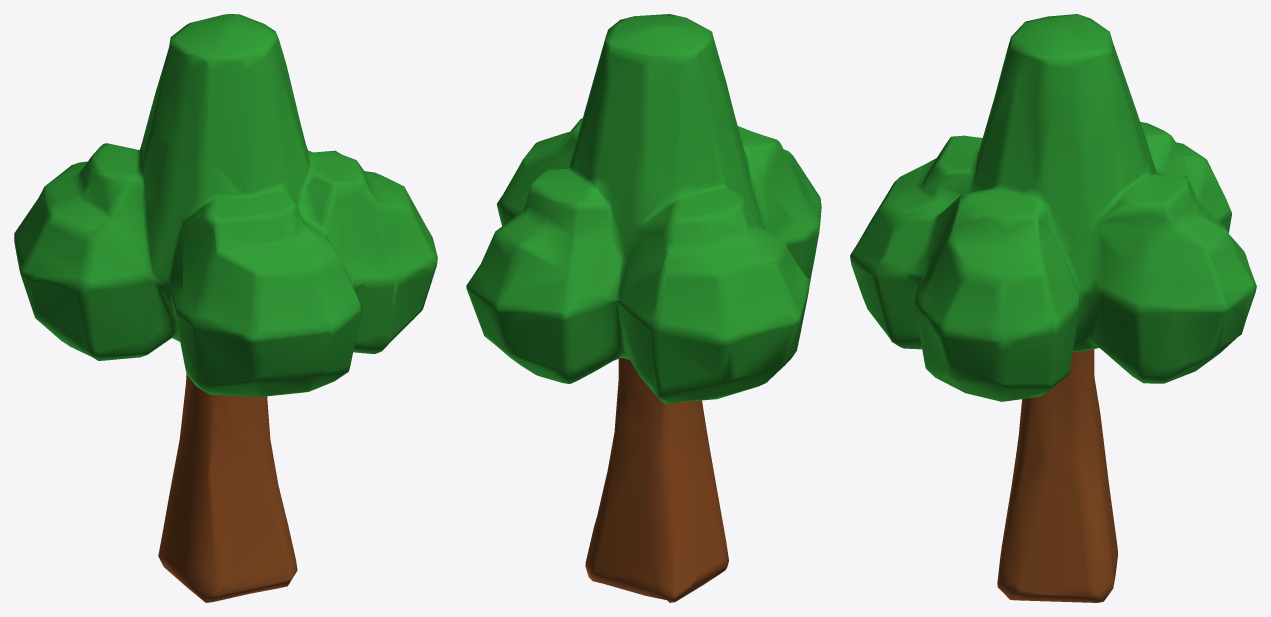
File: gen3d-joshua-tree-lod0.glb
The picture shows the model from 3 angles, left to right: view 1: azimuth 30°, elevation 25°; view 2: azimuth 150°, elevation 25°; view 3: azimuth 270°, elevation 25°; orthographic projection.
Parts seen in each view (by area): view 1: part_0; view 2: part_0; view 3: part_0.
Part boxes in pixels (box(x1,y1,x2,y2)): part_0: box(14, 14, 437, 602); part_0: box(466, 14, 821, 602); part_0: box(850, 14, 1256, 602).
Size of the model in its own units: 0.6492 by 0.997 by 0.6534.
